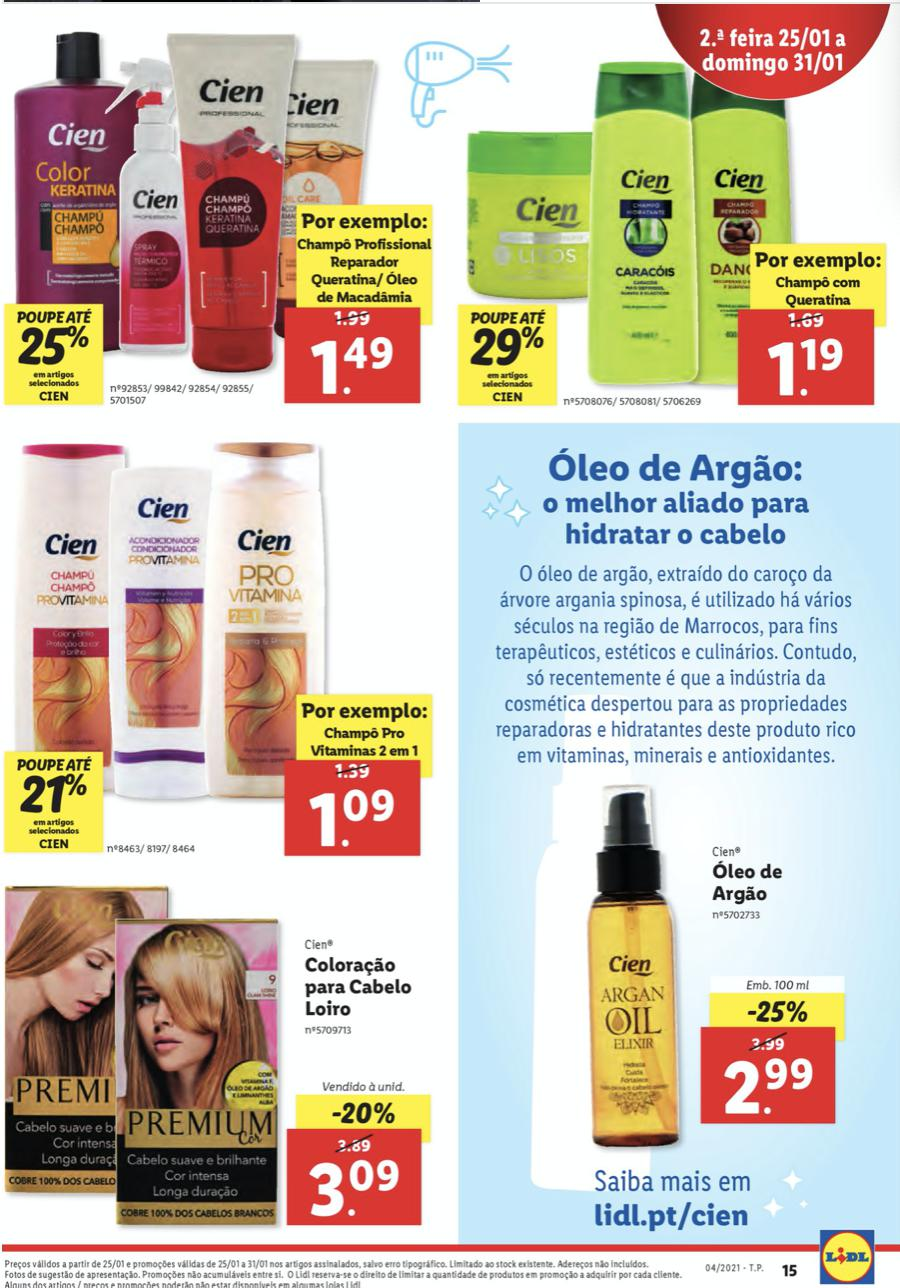name: (303, 954, 413, 1021), (711, 862, 789, 907)
price: (300, 1154, 403, 1226), (722, 1049, 818, 1122), (297, 332, 394, 402), (308, 786, 400, 851), (767, 334, 853, 403)
product: (1, 434, 445, 878), (8, 21, 448, 421), (5, 868, 440, 1240), (457, 62, 897, 416), (484, 760, 853, 1157)
promotion: (13, 324, 97, 368), (465, 326, 549, 370), (16, 772, 92, 814)
